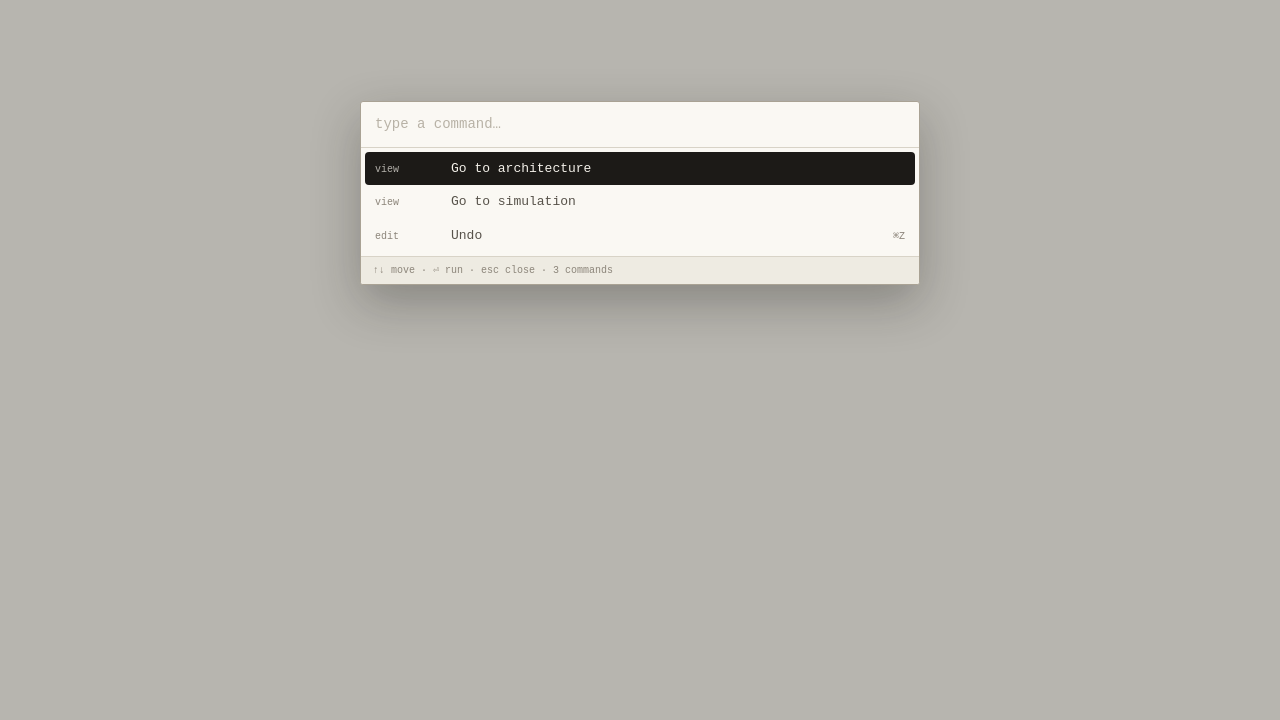
Test case: CommandPalette › filters as the query changes
This screenshot has width=1280, height=720.
Step 1. Type "sim" into the field with placeholder "type a command…" → (640,125), box 361,102 -> 919,148
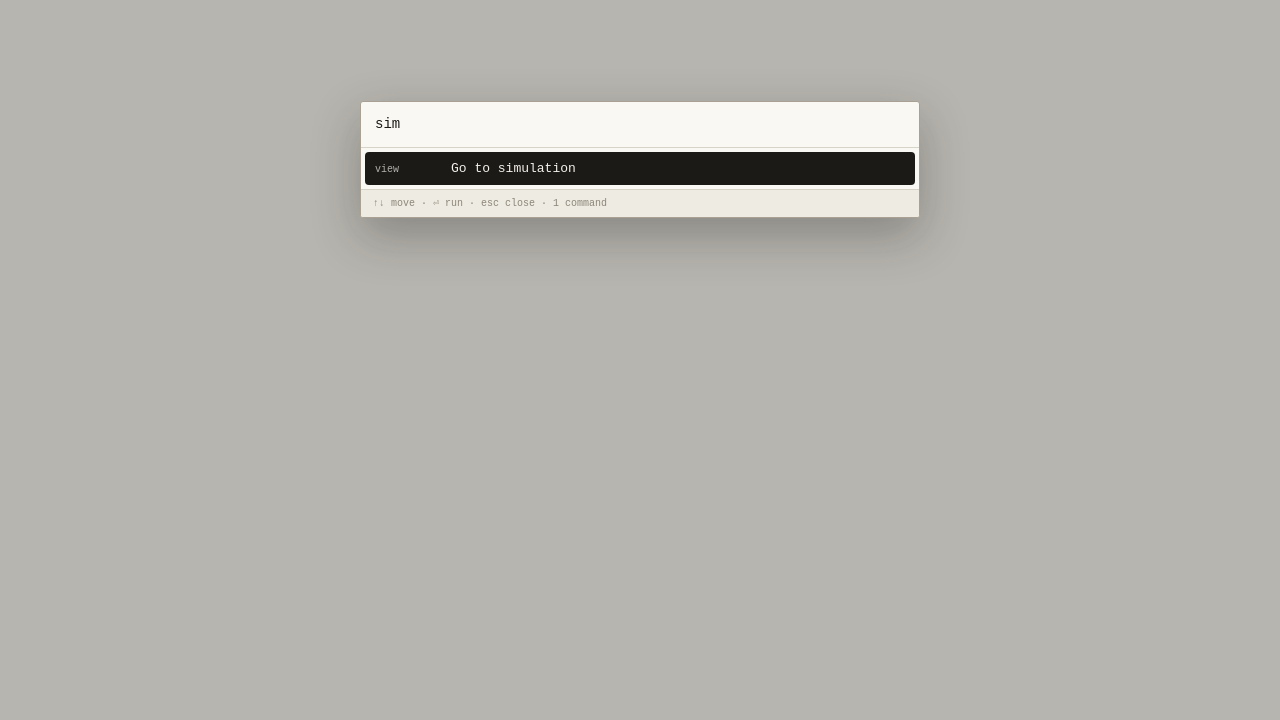
Check: the button shows "Go to simulation", box 365,152 -> 915,185
Check: the number of buttons is 1, box 365,152 -> 915,185
